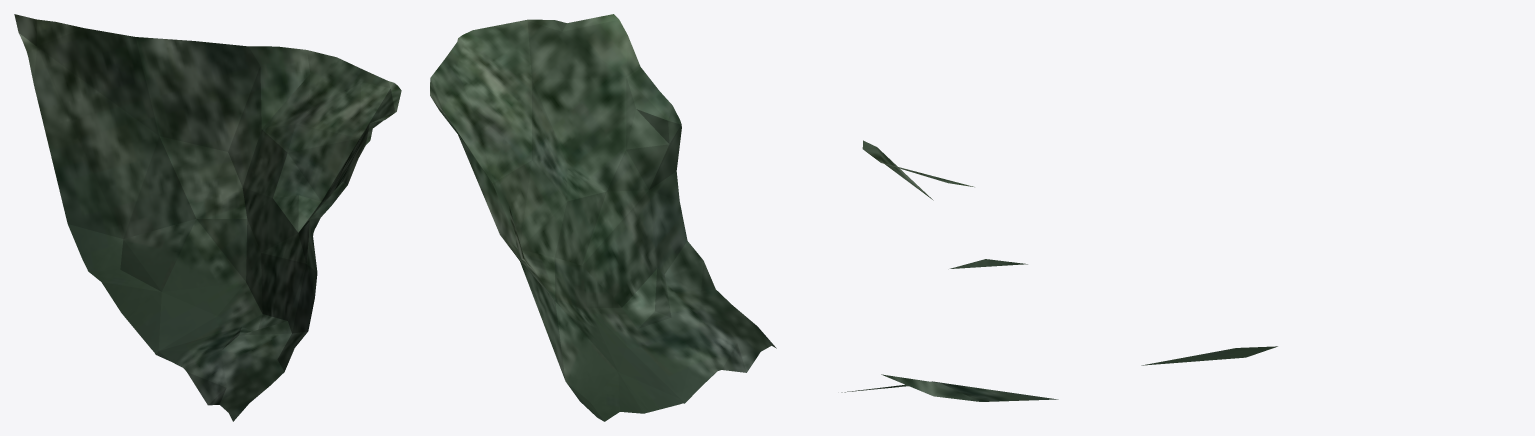
The picture shows the model from 3 angles, left to right: view 1: azimuth 30°, elevation 25°; view 2: azimuth 150°, elevation 25°; view 3: azimuth 270°, elevation 25°; orthographic projection. The views are drawn at different scales.
Bounding box in the file's own units: 1.18 × 1.31 × 2.09.
Materials: 1 (1 with a texture image).
